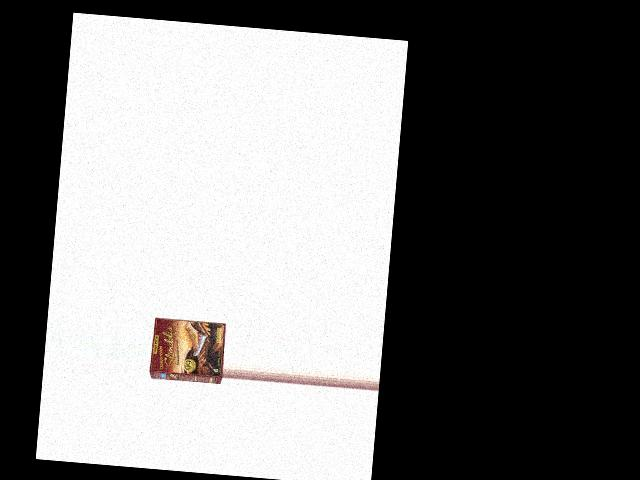chocolate: (147, 310, 227, 388)
